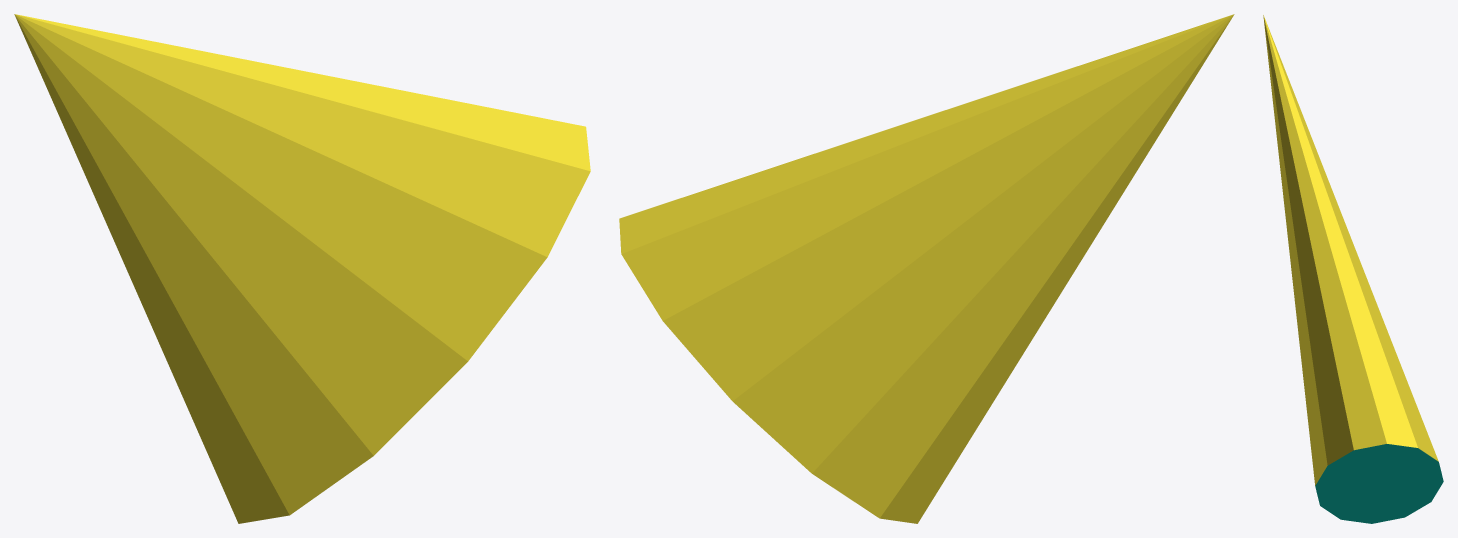
File: n5_n5_group1774890193_lev5.001.glb
The picture shows the model from 3 angles, left to right: view 1: azimuth 30°, elevation 25°; view 2: azimuth 150°, elevation 25°; view 3: azimuth 270°, elevation 25°; orthographic projection. The views are drawn at different scales.
Parts seen in each view (by area): view 1: n5_n5_group1774890193_lev5.001; view 2: n5_n5_group1774890193_lev5.001; view 3: n5_n5_group1774890193_lev5.001.
Part boxes in pixels (bbox=[...]): n5_n5_group1774890193_lev5.001: bbox=[14, 14, 590, 523]; n5_n5_group1774890193_lev5.001: bbox=[619, 14, 1234, 523]; n5_n5_group1774890193_lev5.001: bbox=[1263, 15, 1443, 523].
Size of the model in its own units: 2.25 by 2.08 by 0.8243.
